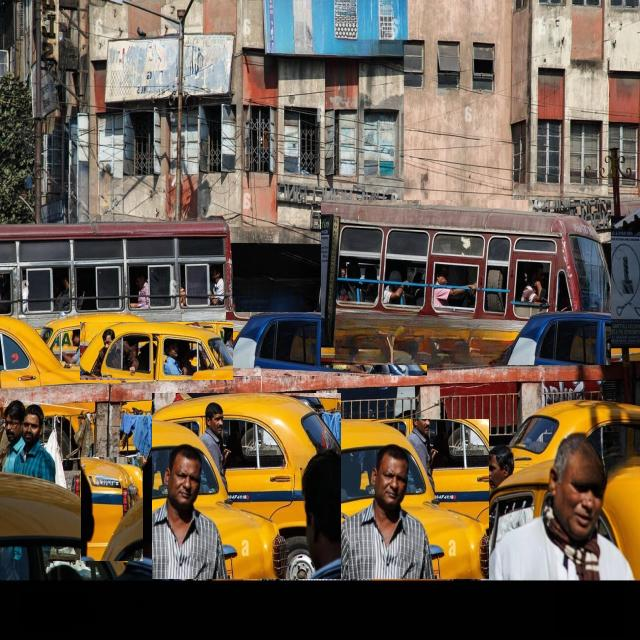bus: (321, 201, 611, 365), (0, 219, 235, 351)
car: (210, 420, 489, 579), (152, 394, 340, 579), (226, 312, 426, 376), (80, 323, 232, 380), (0, 316, 120, 388), (81, 457, 142, 561)
